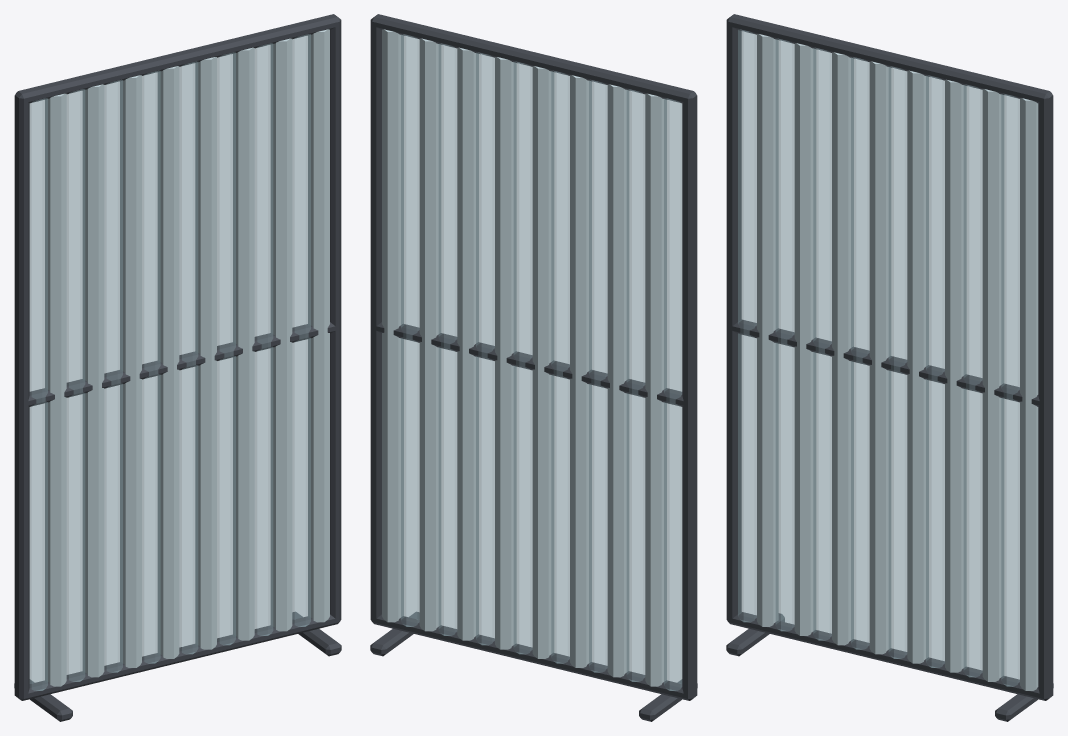
The model's file is fluted_glass_panel.glb.
3 views of the same model, side by side, from view 1: azimuth 30°, elevation 25°; view 2: azimuth 150°, elevation 25°; view 3: azimuth 330°, elevation 25° (orthographic).
Parts seen in each view (by area): view 1: fluted_glass_panel_Body; view 2: fluted_glass_panel_Body; view 3: fluted_glass_panel_Body.
Boxes of the visible parts, x1,y1,x2,y2 form: fluted_glass_panel_Body: [14, 14, 341, 721]; fluted_glass_panel_Body: [370, 14, 697, 721]; fluted_glass_panel_Body: [726, 14, 1053, 721].
Size of the model in its own units: 1.2 by 2.2 by 0.3.
